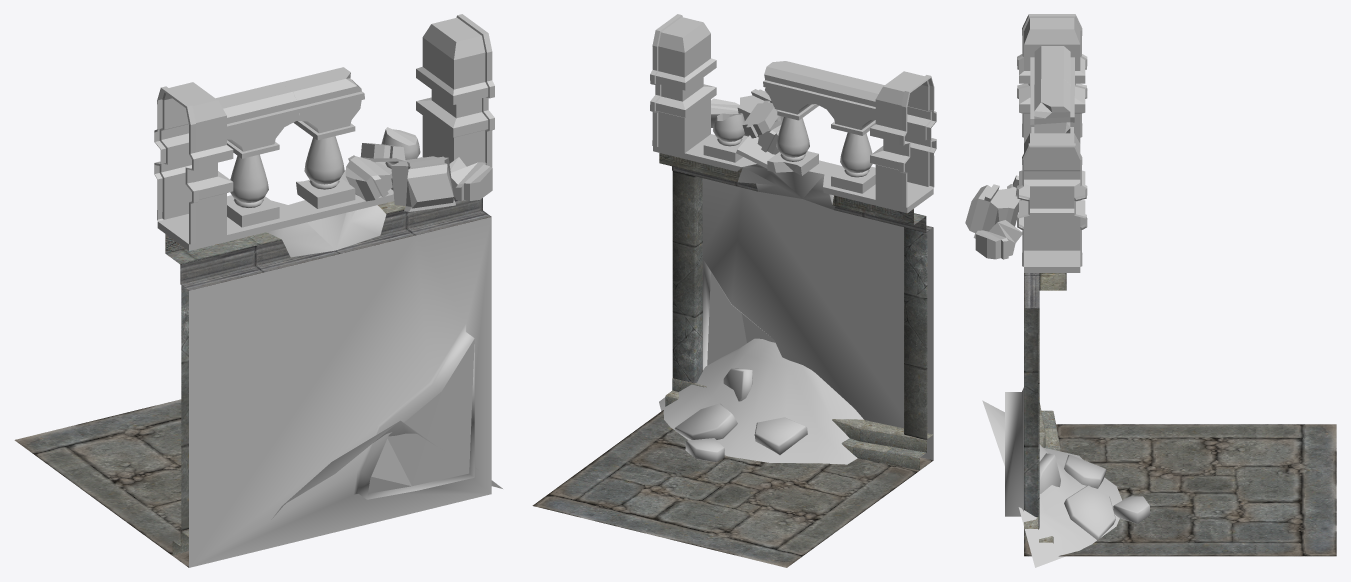
Rendered from UnderWall1Broken.FBX.
3 renders of one model, left to right at view 1: azimuth 30°, elevation 25°; view 2: azimuth 150°, elevation 25°; view 3: azimuth 270°, elevation 25°, orthographic. The views are drawn at different scales.
Parts seen in each view (by area): view 1: Box10; view 2: Box10; view 3: Box10.
Part boxes in pixels (box(x1,y1,x2,y2)): Box10: box(14, 14, 502, 567); Box10: box(532, 14, 936, 567); Box10: box(965, 14, 1336, 567).
Bounding box in the file's own units: 530 × 739 × 594.
